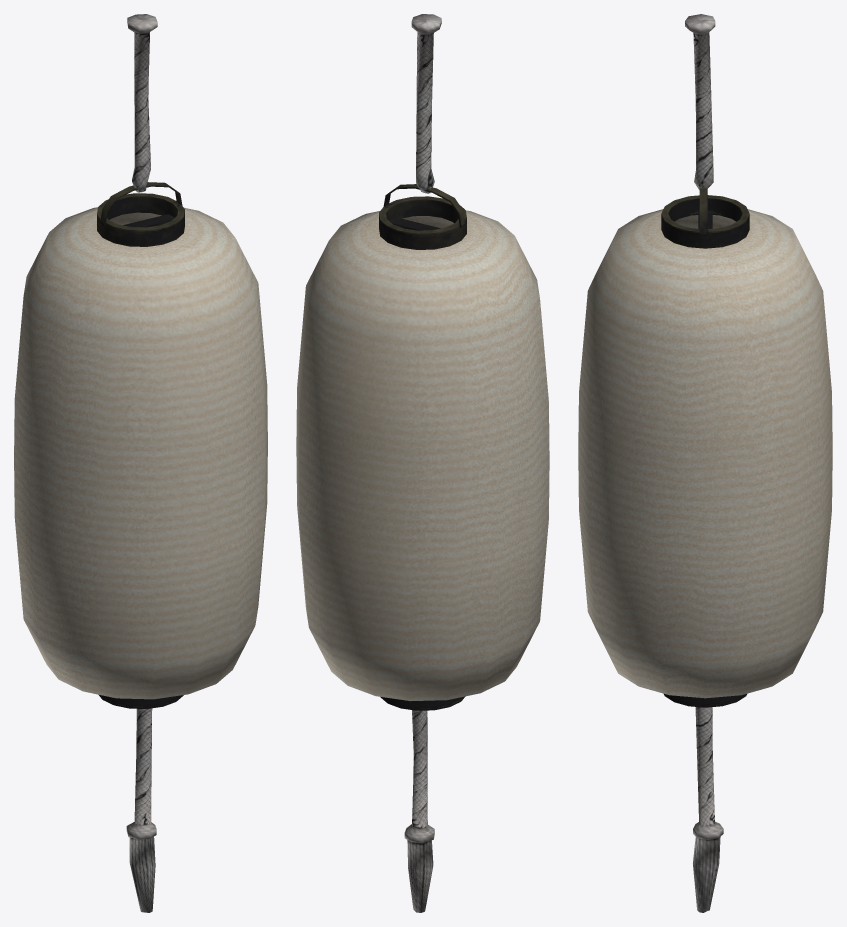
File: Lamp_Chouchin_02.fbx
The picture shows the model from 3 angles, left to right: view 1: azimuth 30°, elevation 25°; view 2: azimuth 150°, elevation 25°; view 3: azimuth 270°, elevation 25°; orthographic projection.
Parts seen in each view (by area): view 1: Lamp_Chouchin_02_Body, Lamp_Chouchin_02_Cord end_LOD0, Lamp_Chouchin_02_Cord, Lamp_Chouchin_02_Cord end; view 2: Lamp_Chouchin_02_Body, Lamp_Chouchin_02_Cord end, Lamp_Chouchin_02_Cord; view 3: Lamp_Chouchin_02_Body, Lamp_Chouchin_02_Cord, Lamp_Chouchin_02_Cord end, Lamp_Chouchin_02_Cord end_LOD0.
Boxes of the visible parts, x1,y1,x2,y2 form: Lamp_Chouchin_02_Body: (14, 182, 267, 708); Lamp_Chouchin_02_Cord end_LOD0: (128, 708, 156, 912); Lamp_Chouchin_02_Cord: (127, 14, 157, 192); Lamp_Chouchin_02_Cord end: (126, 709, 155, 912); Lamp_Chouchin_02_Body: (296, 184, 549, 710); Lamp_Chouchin_02_Cord end: (404, 710, 434, 912); Lamp_Chouchin_02_Cord: (411, 14, 441, 193); Lamp_Chouchin_02_Body: (578, 188, 832, 707); Lamp_Chouchin_02_Cord: (685, 14, 715, 190); Lamp_Chouchin_02_Cord end: (697, 707, 723, 912); Lamp_Chouchin_02_Cord end_LOD0: (693, 707, 707, 912).
Size of what is drawn, in the model's own units: 0.3187 by 1.23 by 0.3187.
